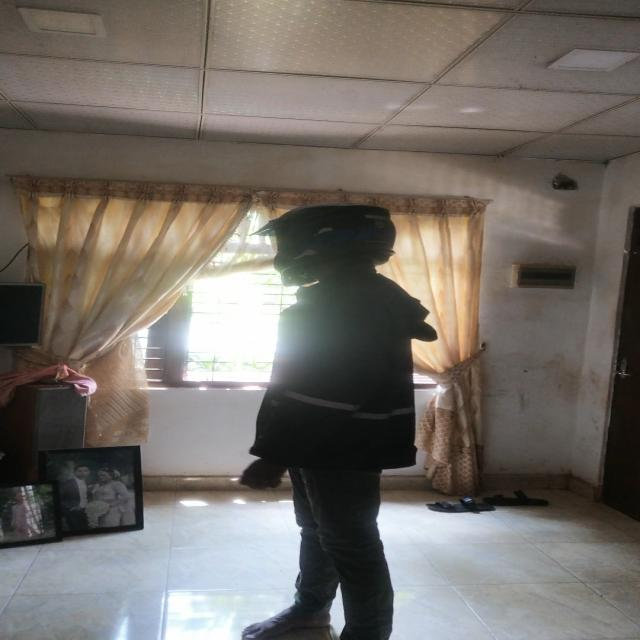Helmet_Wearer: (249, 208, 404, 290)
Jacket_Wearer: (236, 270, 443, 482)
Person: (231, 209, 446, 640)
